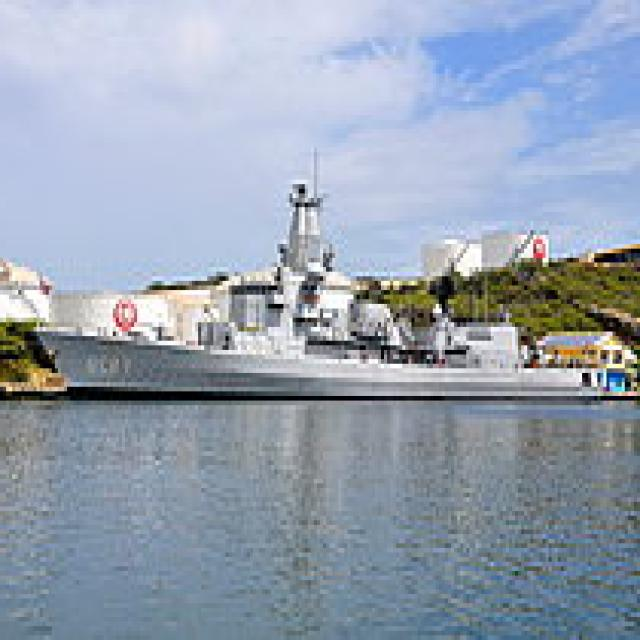Warship: (36, 138, 618, 396)
